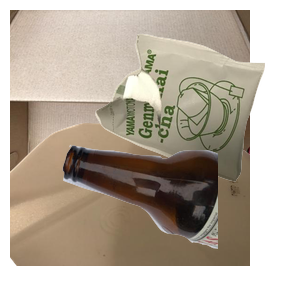cardboard: (10, 10, 250, 190)
glass: (60, 142, 300, 300)
plastic: (10, 120, 250, 300)
trash: (93, 31, 300, 205)
